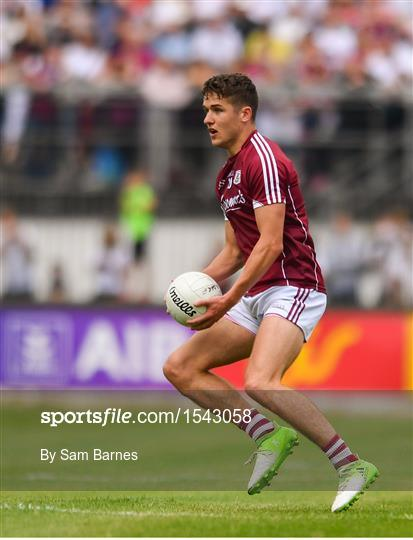ball: (167, 273, 217, 330)
player: (163, 68, 379, 489)
